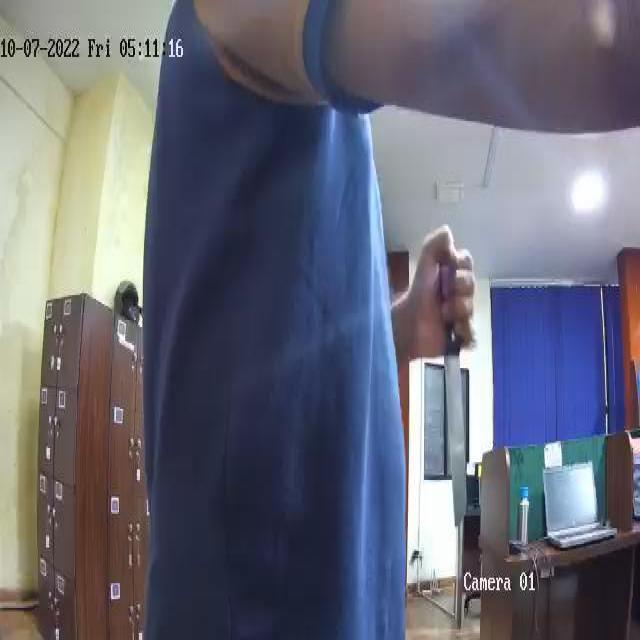Knife: (436, 246, 472, 526)
